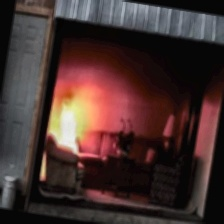fire: (45, 83, 100, 150)
